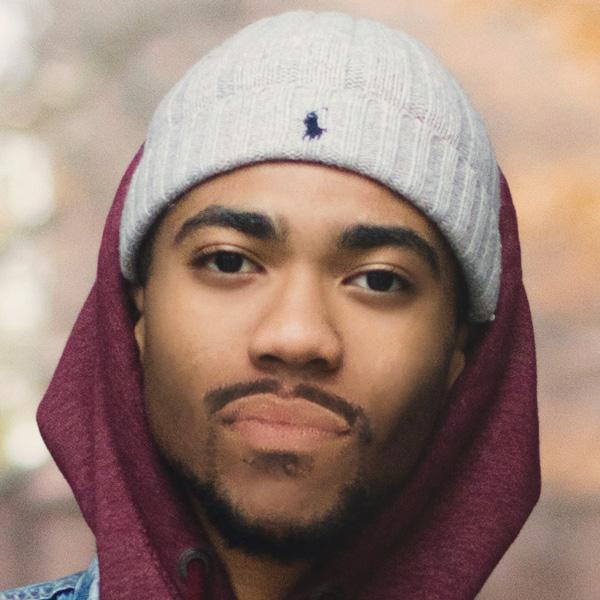Eyes: (181, 231, 271, 291), (331, 251, 418, 308)
